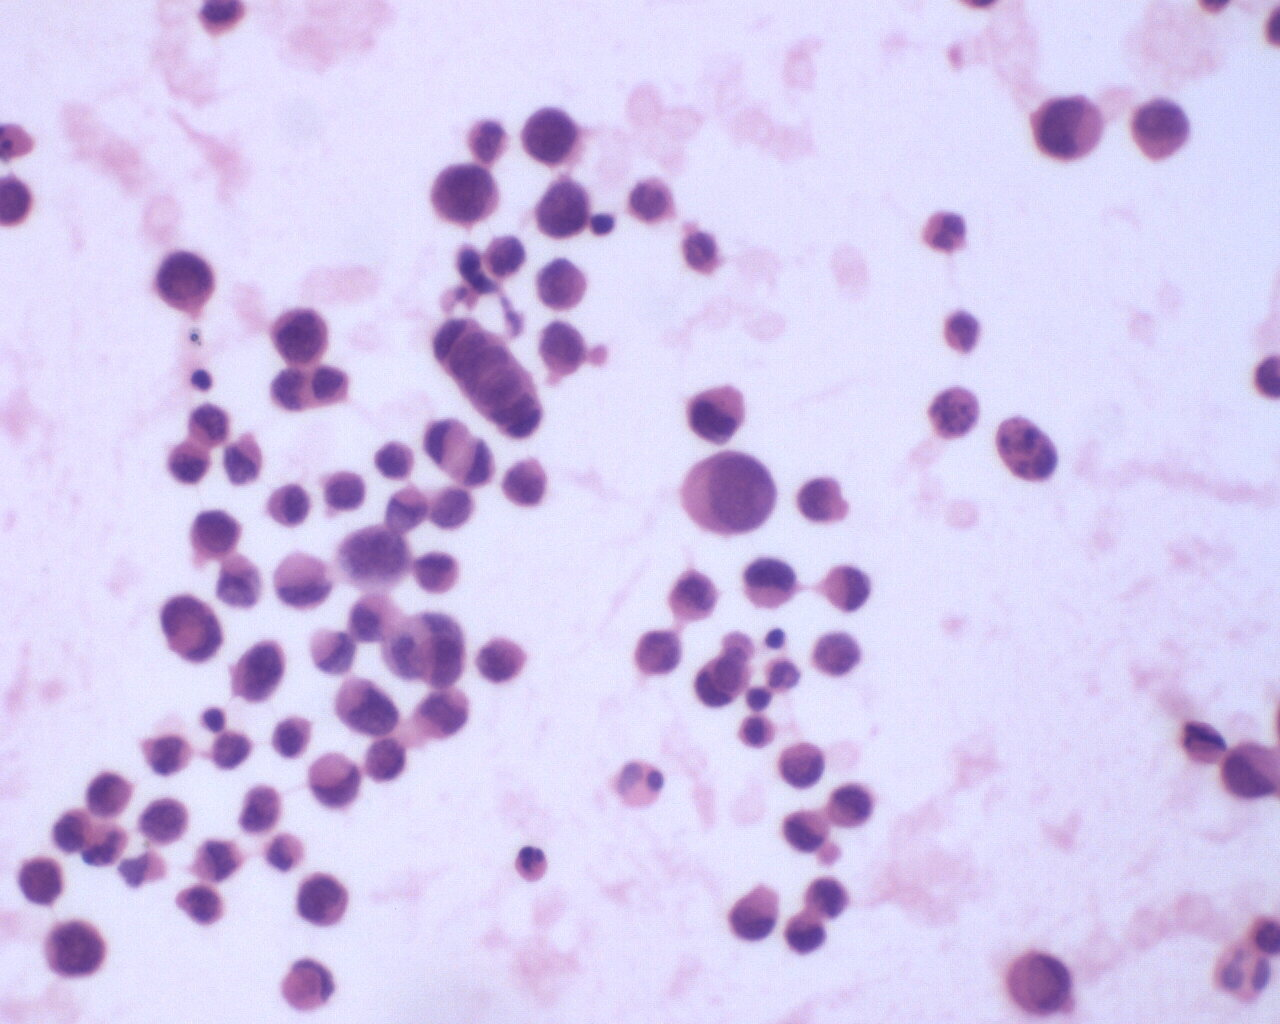ab: (675, 448, 779, 539), (1027, 89, 1112, 164), (1128, 92, 1198, 167), (1003, 947, 1074, 1020), (333, 672, 405, 739), (153, 247, 219, 318), (428, 162, 501, 228), (38, 915, 111, 979), (267, 304, 335, 369), (227, 636, 289, 706), (519, 104, 583, 168), (533, 178, 594, 245), (533, 255, 594, 315), (536, 318, 589, 381), (292, 871, 351, 928), (186, 506, 245, 559), (16, 855, 69, 911), (632, 625, 685, 680), (139, 795, 192, 850), (235, 779, 286, 836), (775, 740, 830, 792), (811, 627, 863, 679), (478, 634, 528, 688), (802, 872, 854, 924), (84, 769, 134, 820), (666, 569, 718, 619), (501, 456, 549, 509), (178, 882, 231, 929), (414, 548, 464, 597), (264, 481, 313, 531), (479, 233, 530, 279), (185, 400, 232, 449), (385, 486, 430, 536), (168, 441, 216, 486), (783, 911, 827, 959), (51, 808, 94, 857), (271, 712, 312, 762), (321, 469, 369, 512), (373, 438, 418, 483), (210, 729, 254, 773)
neutro: (922, 210, 971, 254), (513, 843, 553, 885)
